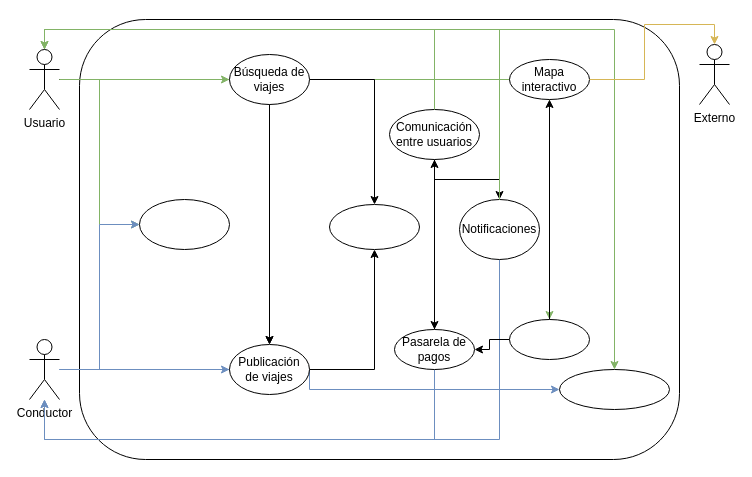
Some shapes in this 752 by 477 pixel diagram are drawn without their labels. Here are the shapes that lost their labels. From the top down, the box of each, then its label:
(138, 198, 230, 250): Registro de usuarios
(328, 204, 420, 250): Administración de viajes
(508, 318, 590, 360): Seguridad y confianza
(558, 368, 670, 410): Usabilidad y personalización
